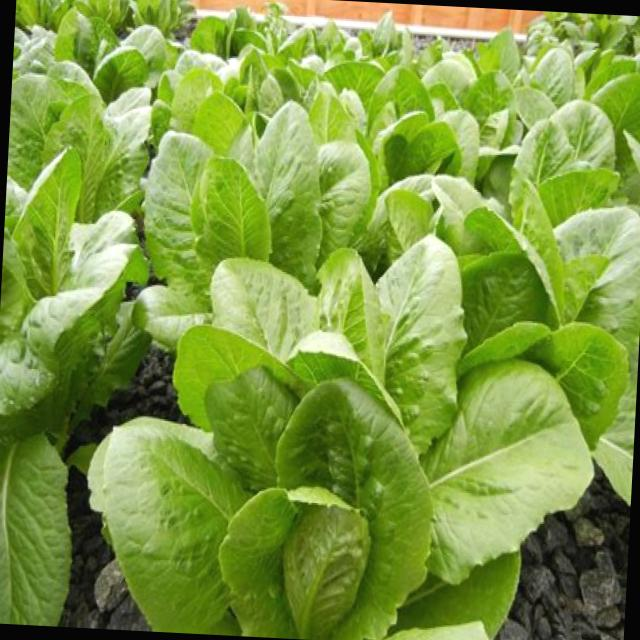Lettuce-Ready-to-Harvest: (116, 329, 525, 640)
